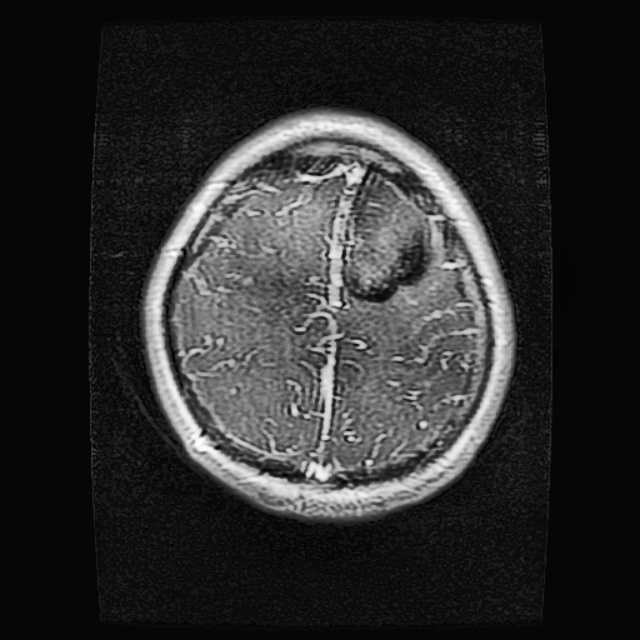Glioma: (342, 178, 429, 299)
